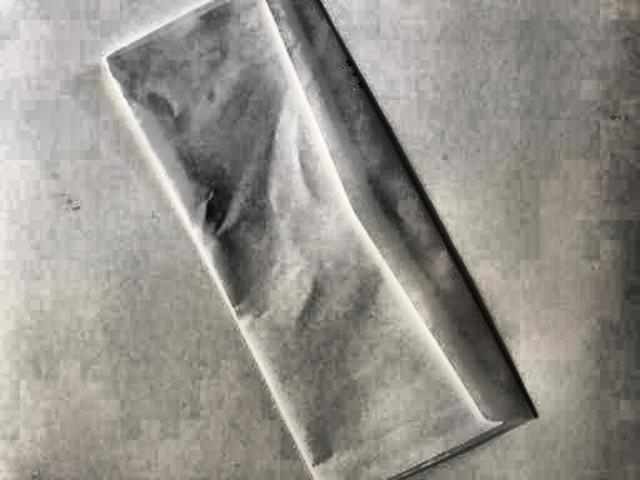Paper: (79, 0, 536, 480)
